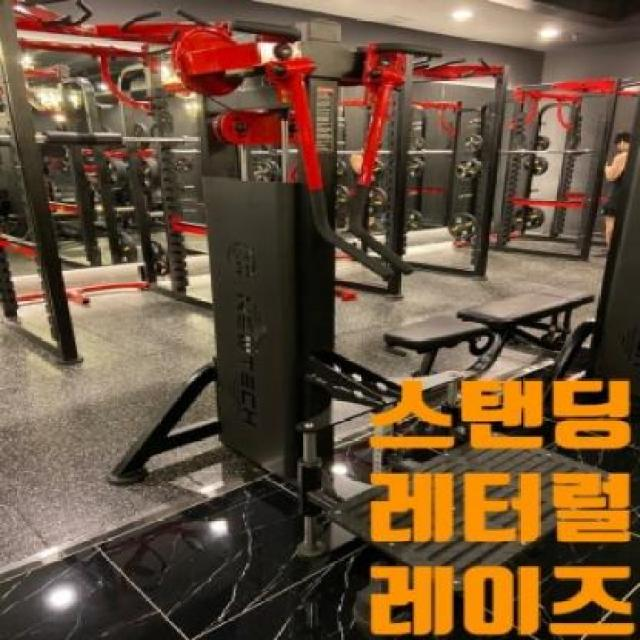lateral raises machine: (174, 20, 446, 382)
